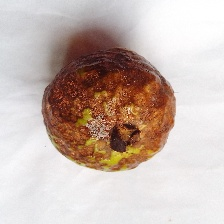guava: (42, 8, 206, 184)
